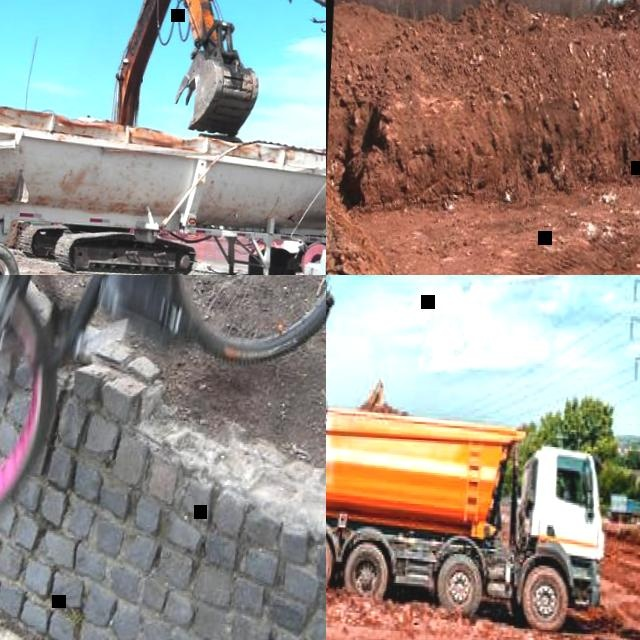machinery: (14, 0, 268, 275), (326, 404, 611, 623), (0, 90, 326, 275)
